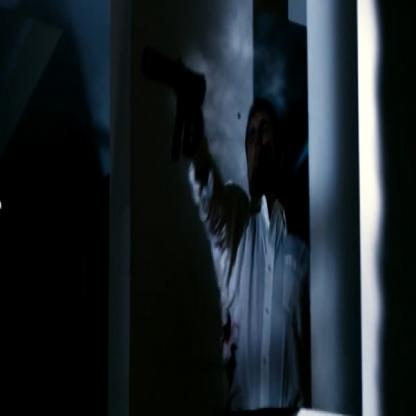Gun: (140, 46, 207, 168)
